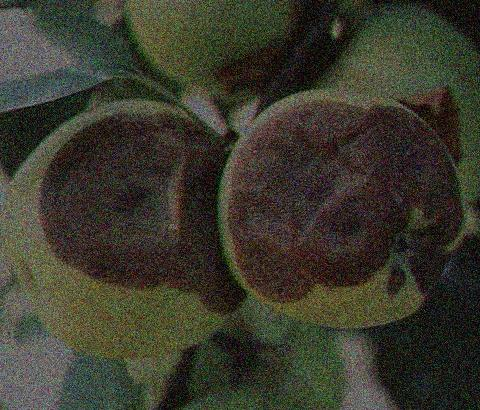rotten apple: (0, 90, 241, 369), (228, 83, 477, 332)
